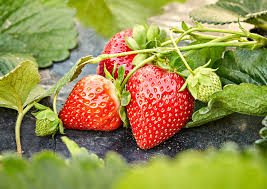ripe: (122, 61, 194, 150), (60, 71, 126, 136), (96, 24, 164, 86)
unripe: (185, 66, 224, 103), (31, 106, 62, 137)
